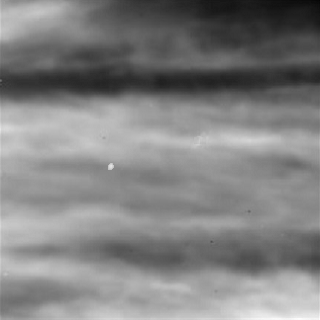Target: (106, 162, 115, 171)
